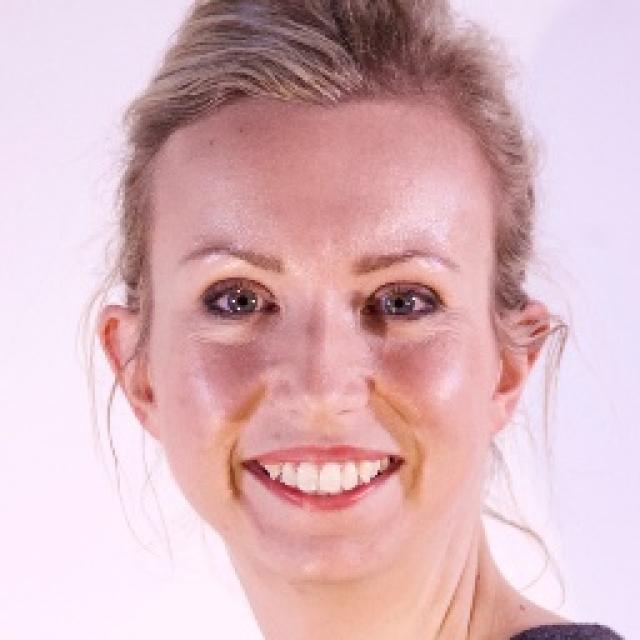earlobe: (94, 304, 164, 442), (486, 299, 548, 439)
